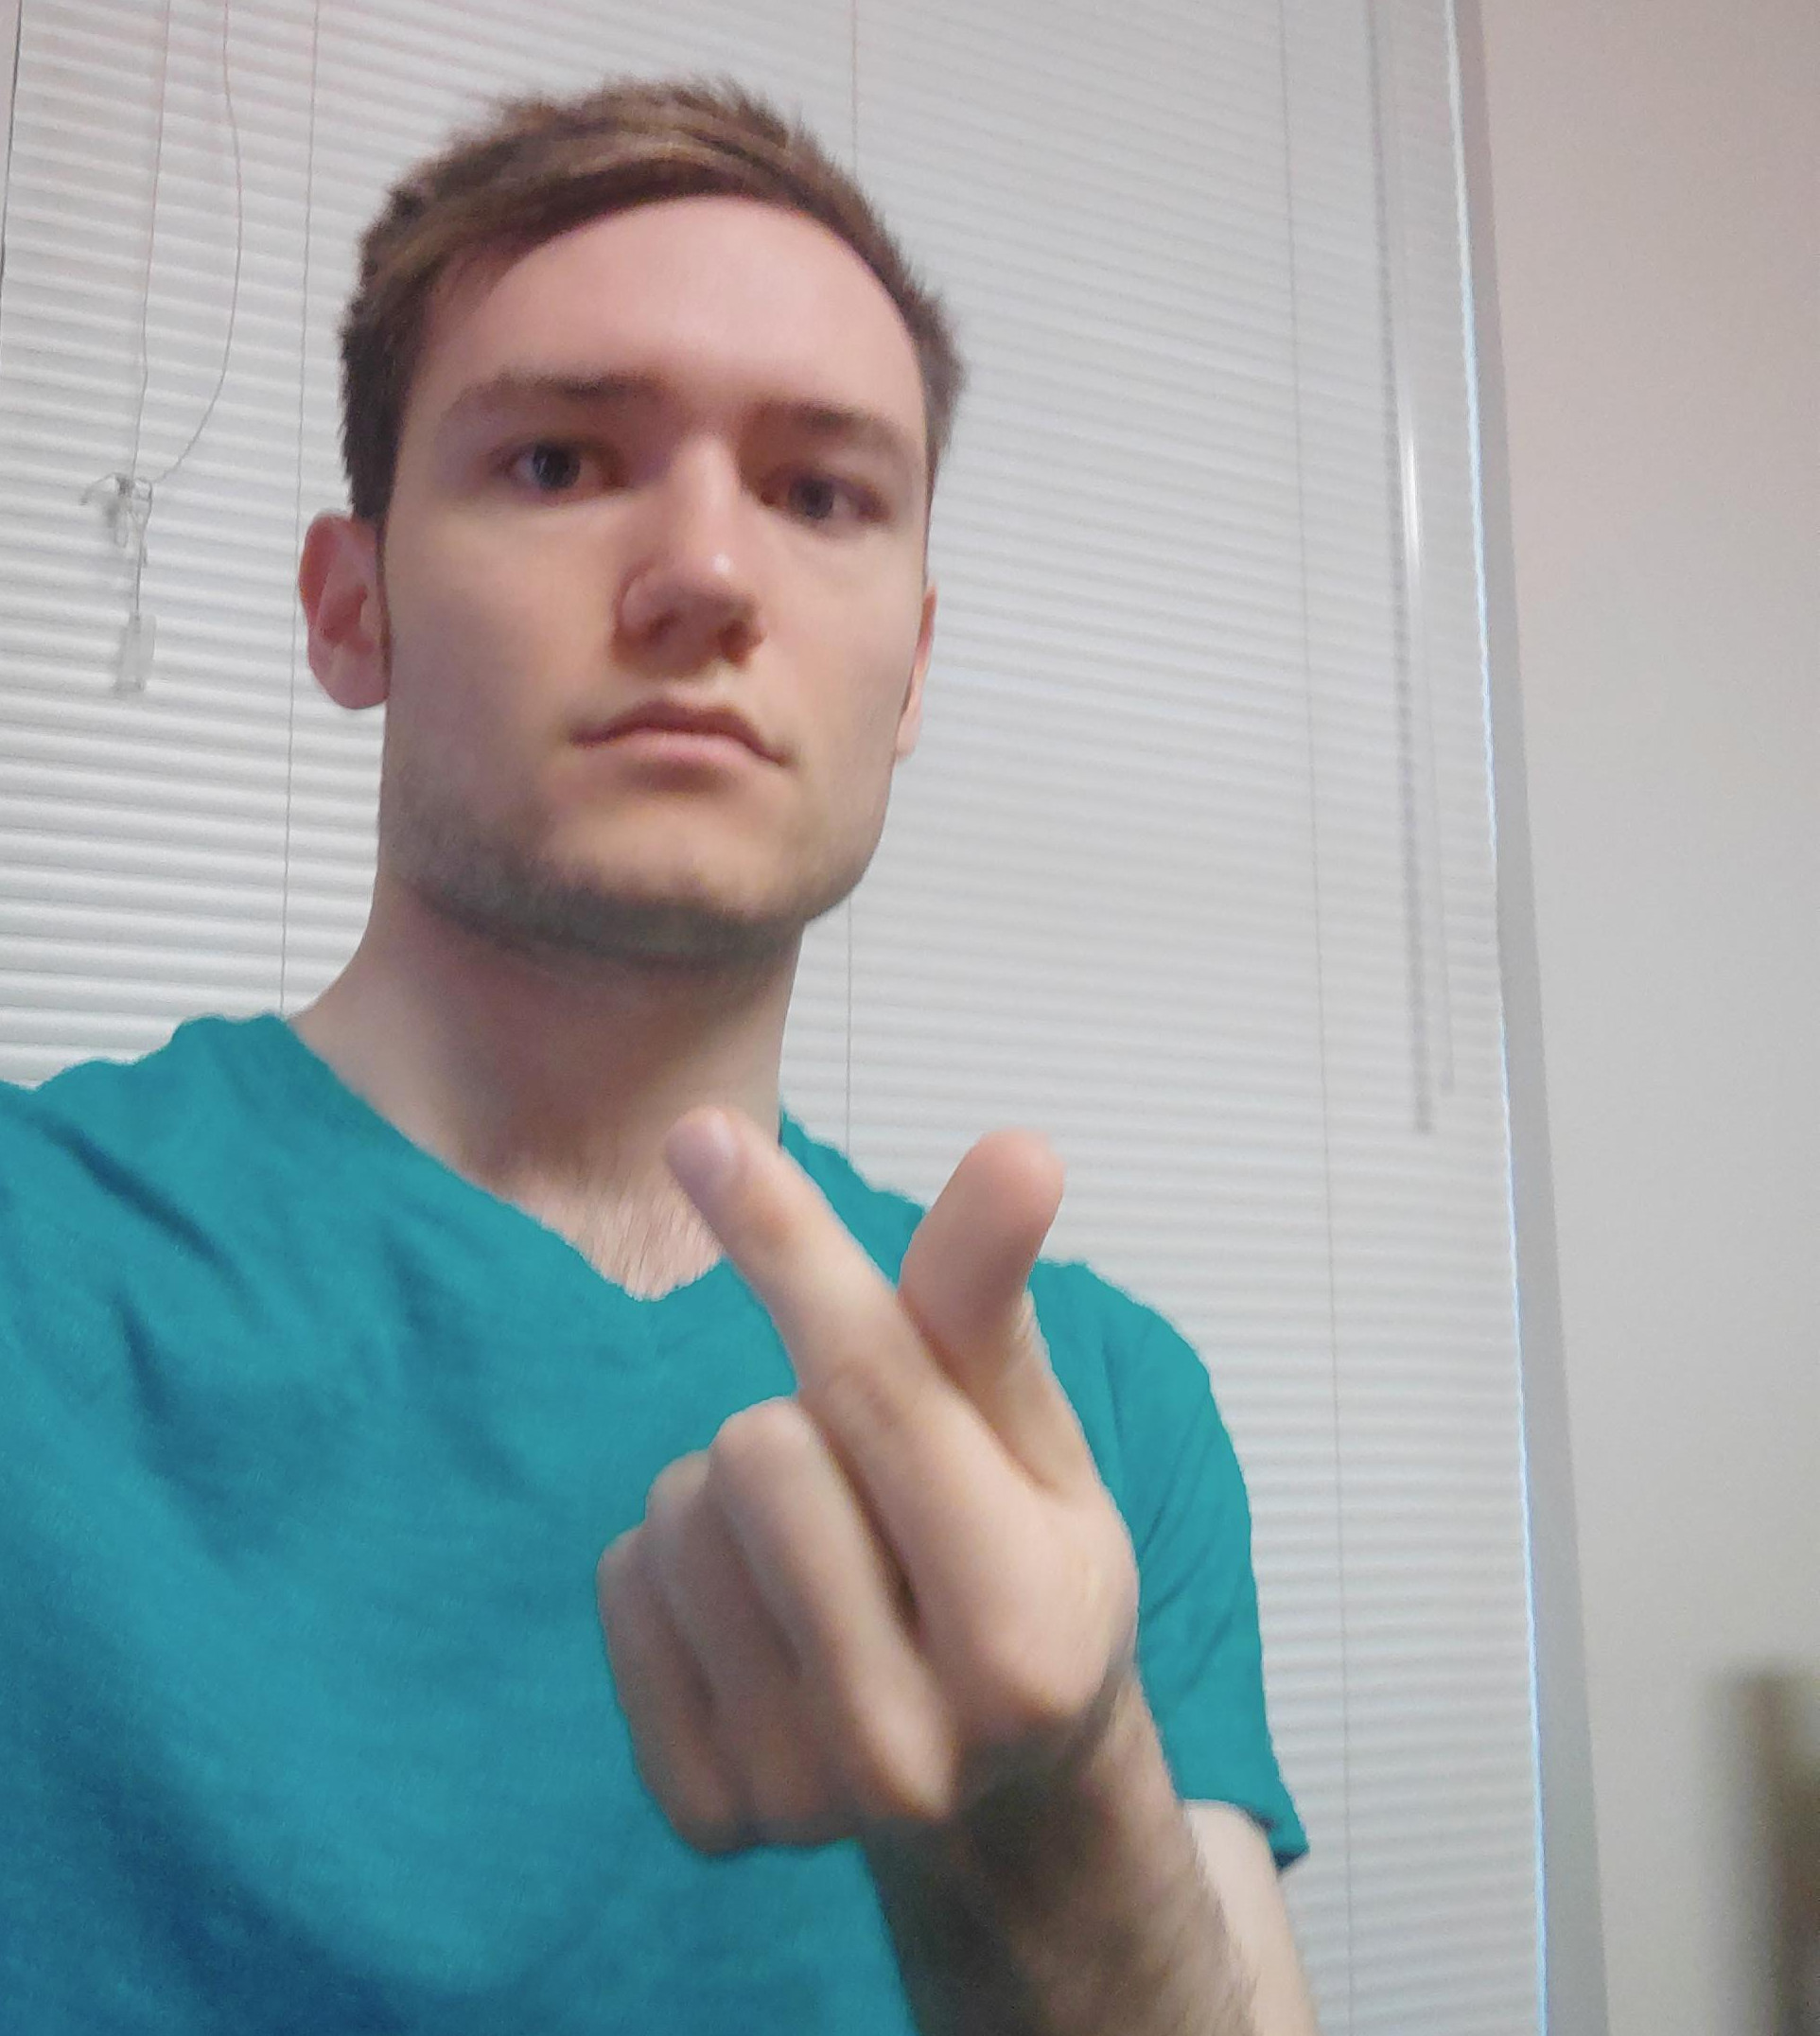heart gesture: (657, 1089, 1080, 1411)
